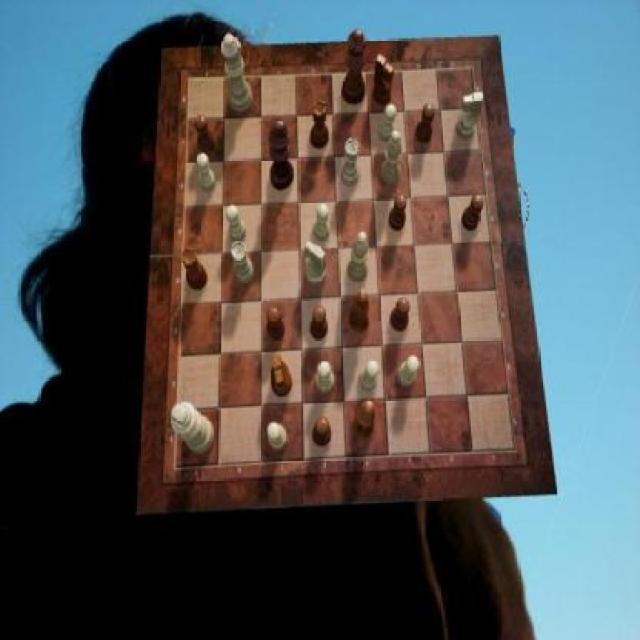bishop: (349, 289, 370, 333), (354, 400, 377, 438)
black-bishop: (268, 120, 294, 191)
black-king: (374, 54, 394, 106), (271, 354, 293, 396)
black-knight: (461, 196, 484, 232), (196, 115, 216, 154), (416, 104, 434, 144), (388, 196, 407, 232), (391, 298, 411, 332), (268, 306, 285, 341), (311, 306, 328, 340), (313, 417, 332, 446)
black-pawn: (343, 30, 368, 106)
black-queen: (182, 248, 208, 290), (310, 100, 328, 149)
black-rook: (346, 230, 369, 282), (382, 131, 402, 185)
white-bishop: (170, 401, 214, 454)
white-king: (457, 92, 485, 140), (305, 241, 327, 287)
white-knight: (197, 154, 217, 192), (226, 205, 246, 242), (398, 357, 421, 389), (379, 103, 396, 142), (360, 360, 380, 392), (314, 205, 331, 242), (316, 362, 334, 396), (268, 423, 288, 451)
white-pawn: (222, 34, 254, 112)
white-queen: (231, 240, 254, 284), (340, 139, 359, 186)
